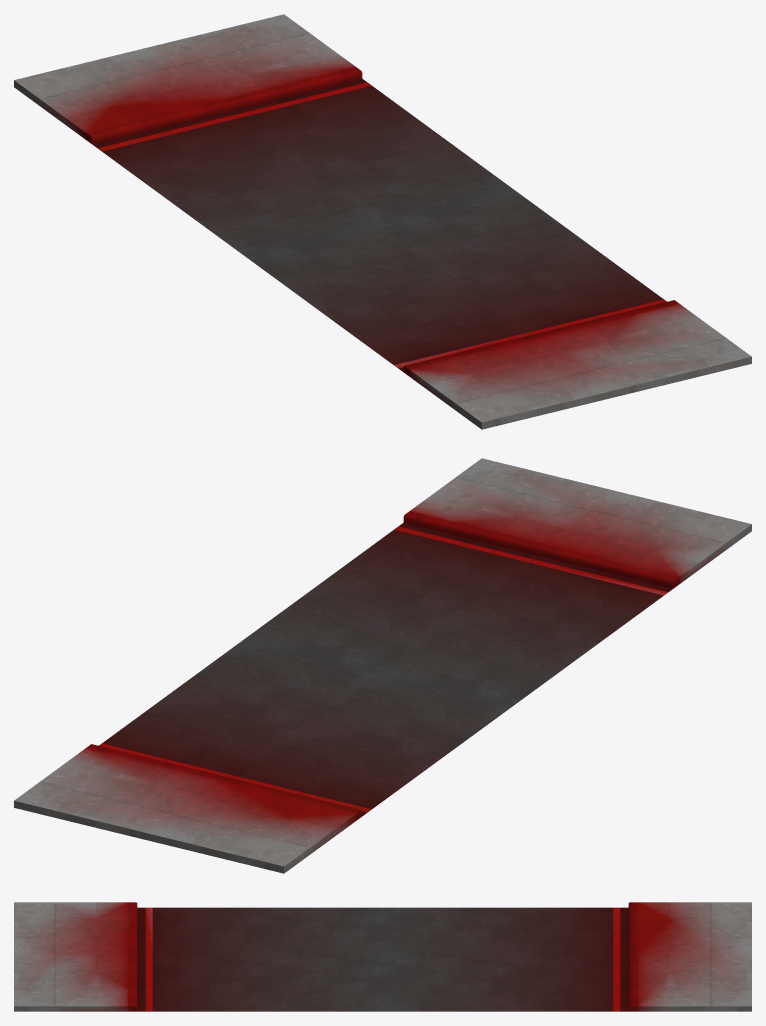
File: Street_4Lane.glb
3 renders of one model, top to bottom at view 1: azimuth 30°, elevation 25°; view 2: azimuth 150°, elevation 25°; view 3: azimuth 270°, elevation 25°, orthographic. The views are drawn at different scales.
Parts seen in each view (by area): view 1: Street_4Lane; view 2: Street_4Lane; view 3: Street_4Lane.
Boxes of the visible parts, x1,y1,x2,y2 form: Street_4Lane: (14, 14, 751, 429); Street_4Lane: (14, 458, 751, 873); Street_4Lane: (14, 902, 751, 1011).
Bounding box in the file's own units: 6 × 0.1505 × 18.
Materials: 3 (3 with a texture image).
